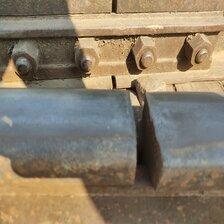railway-gap: (95, 91, 202, 192), (93, 0, 134, 16), (101, 69, 128, 91)
